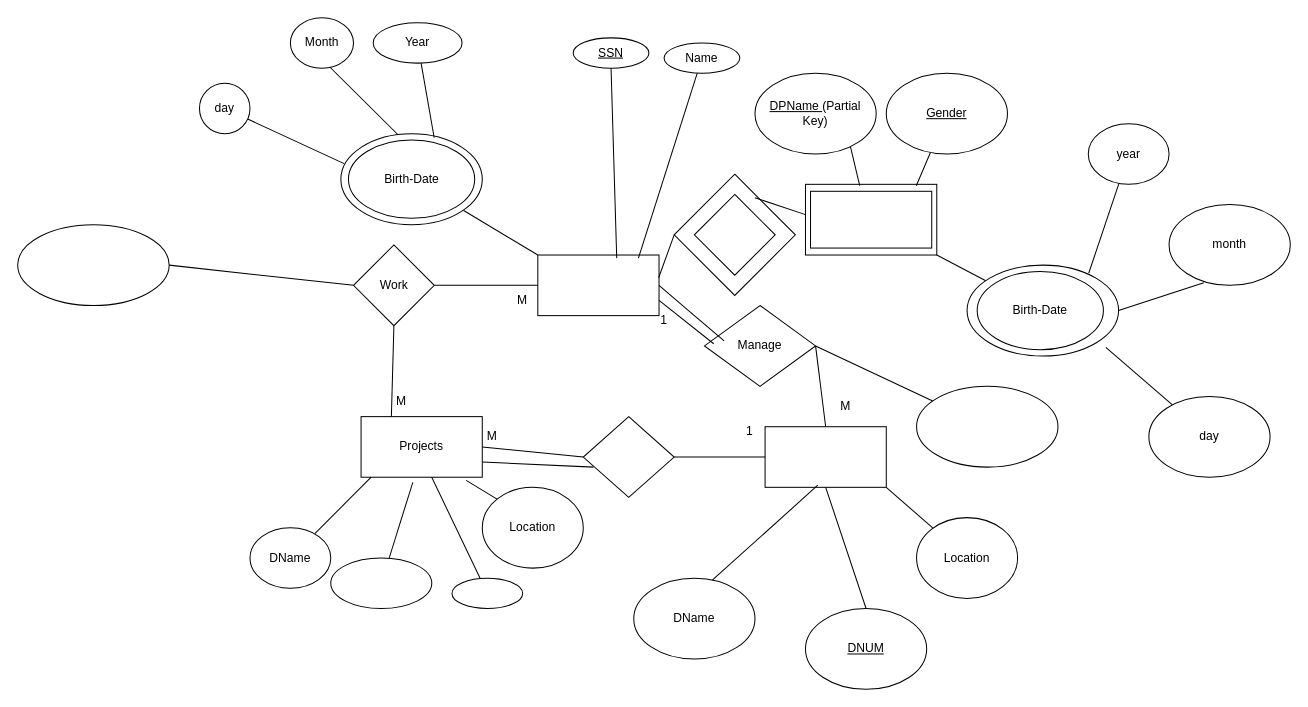
This 1308x707 diagram has some shape labels left out. The shapes that lost their labels are listed below. From the top down, each one's centre as x and y in pixels, then its label:
At point (734, 234): "Suberviser".
At point (871, 219): "Dependent".
At point (93, 265): "Working hour".
At point (598, 285): "Employee".
At point (987, 426): "Hiring Date".
At point (628, 456): "Assigend".
At point (825, 456): "Departments".
At point (381, 583): "DNumber".
At point (487, 593): "ID".
